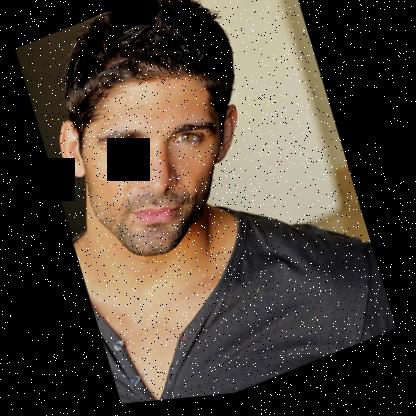Male: (45, 42, 269, 284)
